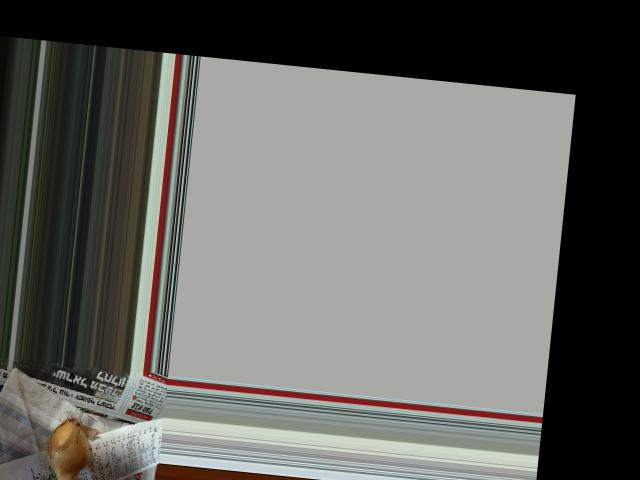onion: (43, 423, 88, 480)
